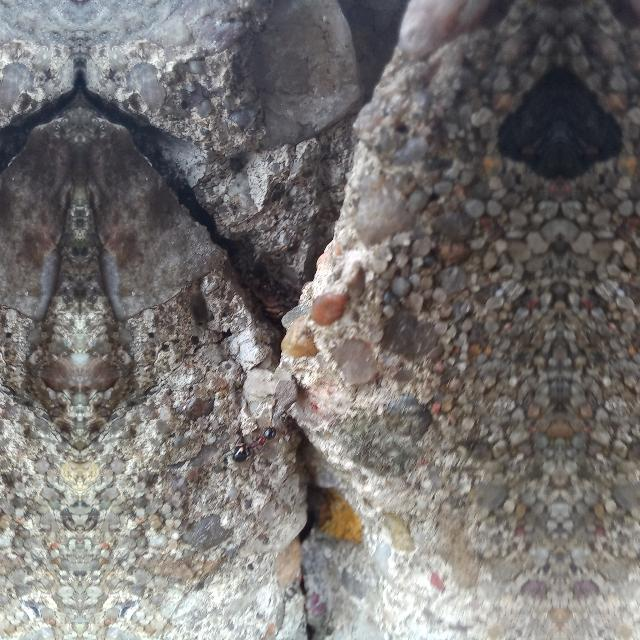Dolichoderus: (227, 408, 283, 470)
